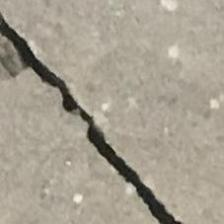Crack: (0, 1, 192, 224)
